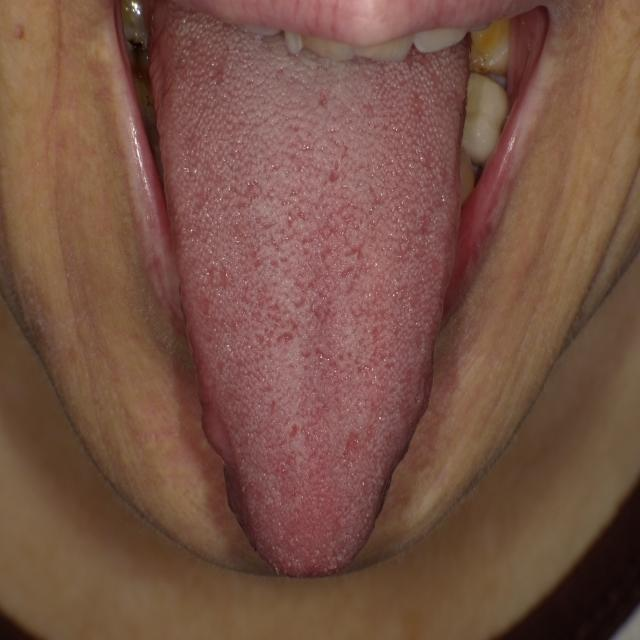baitaishe: (151, 4, 471, 577)
shoushe: (151, 4, 471, 577)
